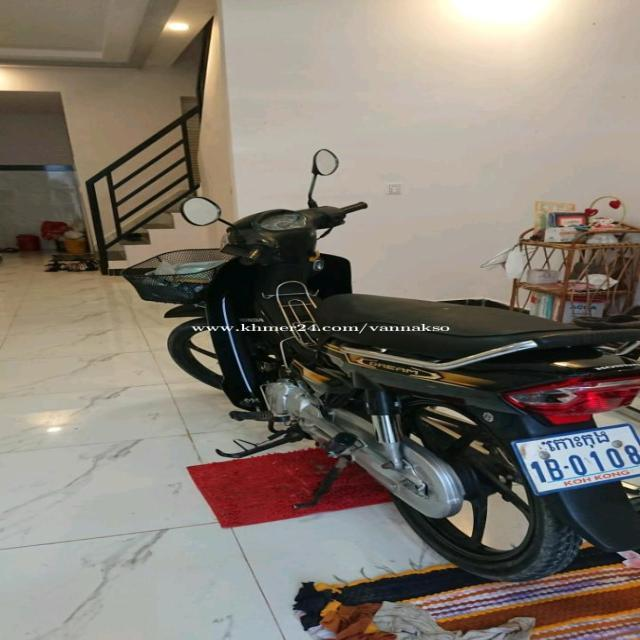Koh_Kong: (545, 431, 610, 451)
